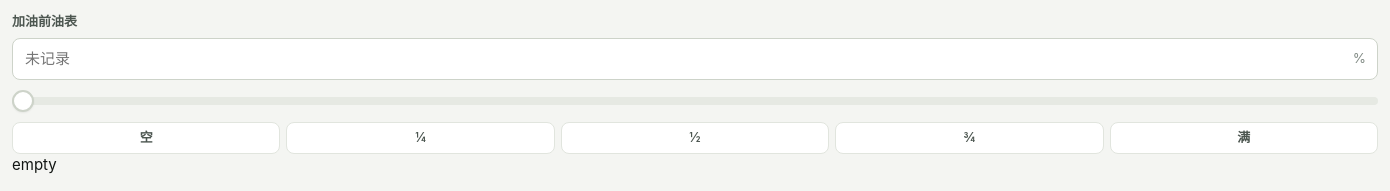
Test: GaugeField › sets common marks with one tap
Click the button "¼". click: (421, 138)
box: x1=286 y1=122 x2=555 y2=154
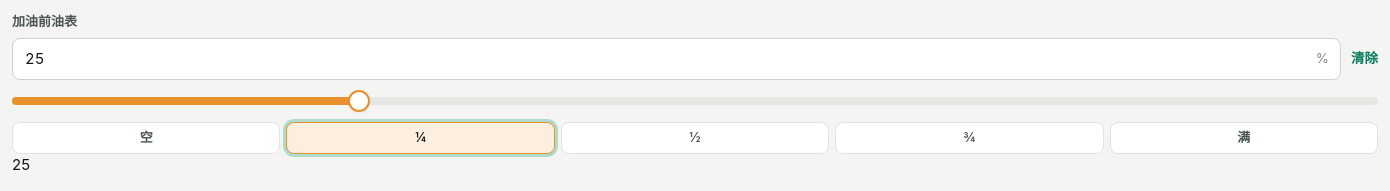
Check: the text with test id "value" reads "25", box x1=12 y1=154 x2=30 y2=174
Click the button "满". click: (1244, 138)
box: x1=1110 y1=122 x2=1378 y2=154
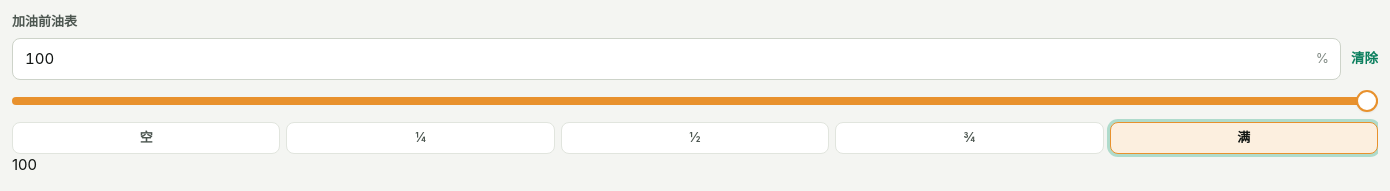
Check: the text with test id "value" reads "100", box x1=12 y1=154 x2=37 y2=174
